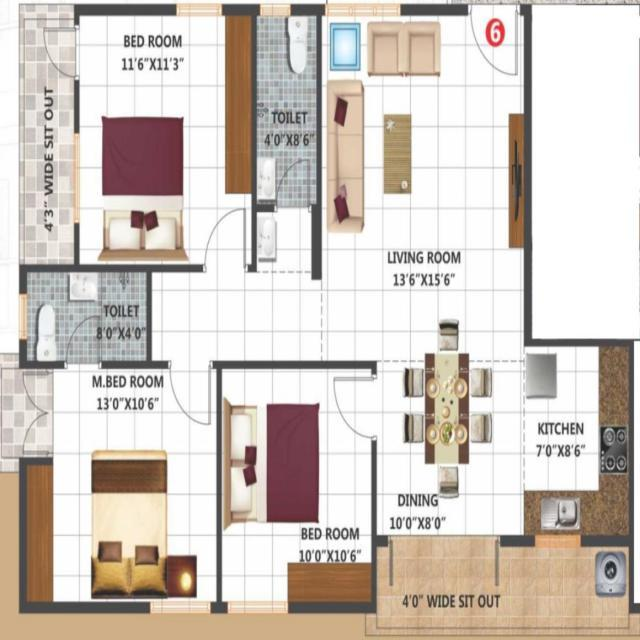Bedroom: (76, 3, 255, 271), (215, 359, 375, 617)
Bedroom with Toilet: (19, 265, 217, 612)
Dining: (403, 316, 493, 500)
Kitchen: (522, 341, 633, 544)
Living: (314, 5, 529, 344)
Toilet: (24, 271, 154, 377), (253, 7, 321, 208)
